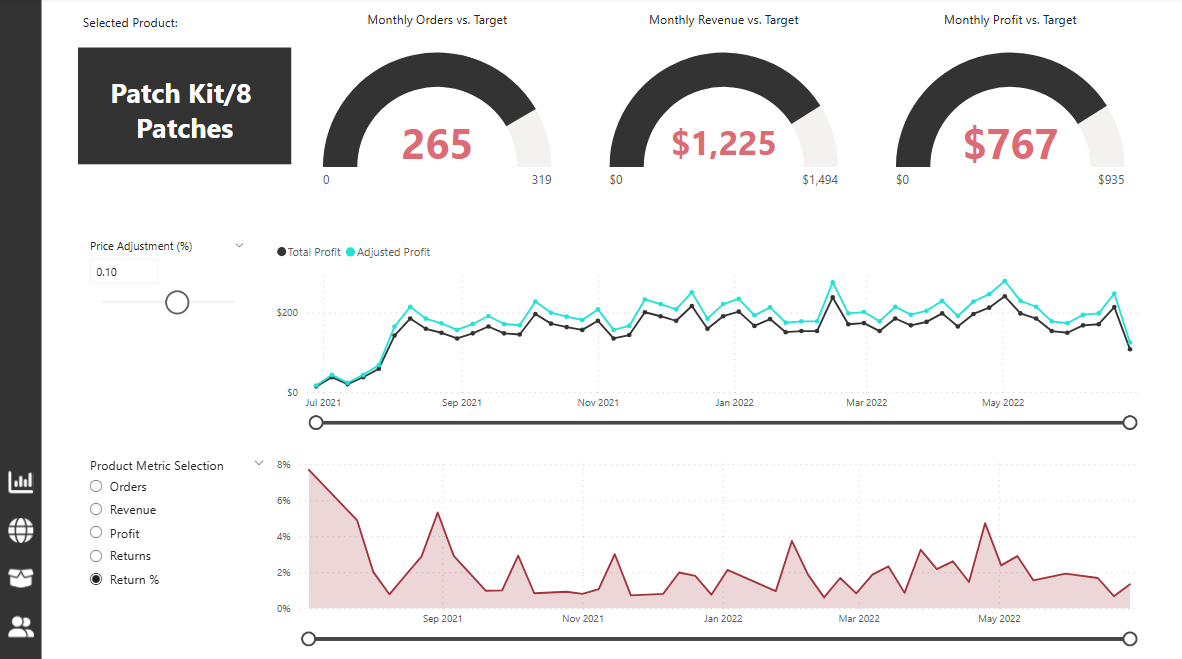

Layout of this report page (visuals, bound fields, positions):
{"tool":"powerbi","page":{"name":"Product Detail","canvas":[1280,720],"ordinal":2},"visuals":[{"type":"shape","box":[0,0,45,720],"z":0},{"type":"gauge","title":"Monthly Orders vs. Target ","fields":{"Y":["Measure Table.Total Orders"],"MaxValue":["Measure Table.Order Target"]},"box":[343,12.9,257.3,224.9],"z":1000},{"type":"actionButton","box":[5.2,608.1,45.3,35.6],"z":1000,"group":"g1"},{"type":"actionButton","box":[5,505,45,35],"z":2000,"group":"g1"},{"type":"gauge","title":"Monthly Revenue vs. Target ","fields":{"MaxValue":["Measure Table.Revenue Target"],"Y":["Measure Table.Total Revenue"]},"box":[652,12.9,257.3,224.9],"z":2000},{"type":"gauge","title":"Monthly Profit vs. Target ","fields":{"Y":["Measure Table.Total Profit"],"MaxValue":["Measure Table.Profit Target"]},"box":[961.1,12.9,257.3,224.9],"z":3000},{"type":"actionButton","box":[5.2,556.3,45.3,35.6],"z":3000,"group":"g1"},{"type":"actionButton","box":[5,660,45,36.2],"z":4000,"group":"g1"},{"type":"lineChart","title":"Profit Trending","fields":{"Category":["Calendar Lookup.Date hierarchy.Start of Year","Calendar Lookup.Date hierarchy.Start of Month","Calendar Lookup.Date hierarchy.Start of Week","Calendar Lookup.Date hierarchy.Date"],"Y":["Measure Table.Total Profit","Measure Table.Adjusted Profit"]},"box":[293.3,253.3,955,215],"z":4000},{"type":"areaChart","title":"Return Trending","fields":{"Y":["Measure Table.Return Rate"],"Category":["Calendar Lookup.Date hierarchy.Start of Year","Calendar Lookup.Date hierarchy.Start of Month","Calendar Lookup.Date hierarchy.Start of Week","Calendar Lookup.Date hierarchy.Date"]},"box":[293.3,488.3,955,213.3],"z":5000},{"type":"card","fields":{"Values":["Min(Product Lookup.ProductName)"]},"box":[84.1,53.4,229.8,126.2],"z":6000},{"type":"textbox","box":[84.1,10.8,210.3,30.7],"z":7000},{"type":"group","id":"g1","title":"Navigation Buttons","box":[5,505,45.5,191.2],"z":8000},{"type":"slicer","fields":{"Values":["Price Adjustment (%).Price Adjustment (%)"]},"box":[83.3,253.3,191.7,108.3],"z":9000},{"type":"slicer","fields":{"Values":["Product Metric Selection.Product Metric Selection"]},"box":[83.3,488.3,213.3,175],"z":10000}]}

Visuals, with their boxes on the page's 1280x720 design canvas (x1, y1, x2, y2). These are canvas units, not pixel positions in the 1182x659 screenshot, which may show the page scaled, cropped or inside an application window:
shape: (left=0, top=0, right=45, bottom=720)
"Monthly Orders vs. Target " gauge: (left=343, top=13, right=600, bottom=238)
actionButton: (left=5, top=608, right=50, bottom=644)
actionButton: (left=5, top=505, right=50, bottom=540)
"Monthly Revenue vs. Target " gauge: (left=652, top=13, right=909, bottom=238)
"Monthly Profit vs. Target " gauge: (left=961, top=13, right=1218, bottom=238)
actionButton: (left=5, top=556, right=50, bottom=592)
actionButton: (left=5, top=660, right=50, bottom=696)
"Profit Trending" lineChart: (left=293, top=253, right=1248, bottom=468)
"Return Trending" areaChart: (left=293, top=488, right=1248, bottom=702)
card - Min(Product Lookup.ProductName): (left=84, top=53, right=314, bottom=180)
textbox: (left=84, top=11, right=294, bottom=42)
"Navigation Buttons" group: (left=5, top=505, right=50, bottom=696)
slicer - Price Adjustment (%).Price Adjustment (%): (left=83, top=253, right=275, bottom=362)
slicer - Product Metric Selection.Product Metric Selection: (left=83, top=488, right=297, bottom=663)
